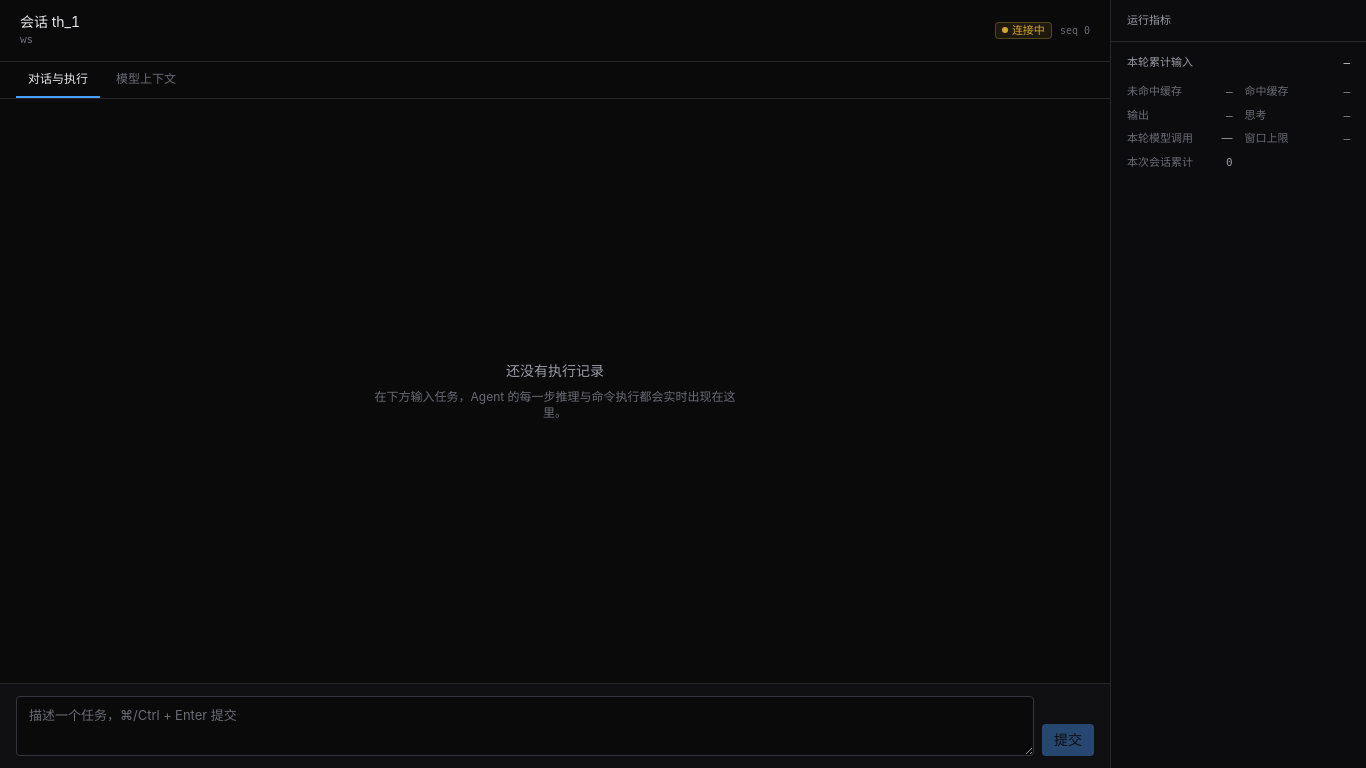
ThreadConsolePage submission › 后端没有上下文接口时显示可操作的原因
What coordinates should you click on to do the following:
click the tab "模型上下文"
I would click on:
 (146, 80)
Its box is left=104, top=62, right=188, bottom=98.
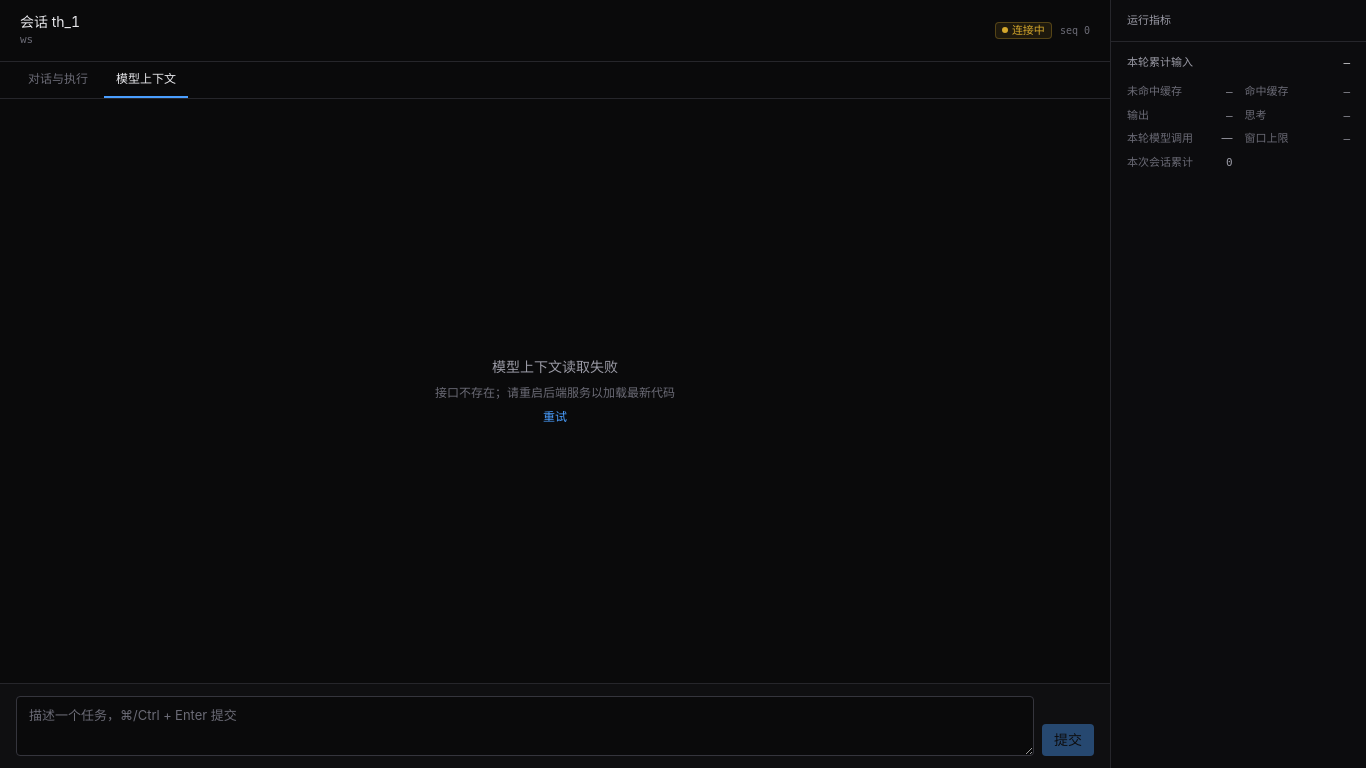
Now the text "接口不存在；请重启后端服务以加载最新代码" is shown, box left=435, top=385, right=675, bottom=401
Now the button "重试" is shown, box left=543, top=409, right=567, bottom=425
